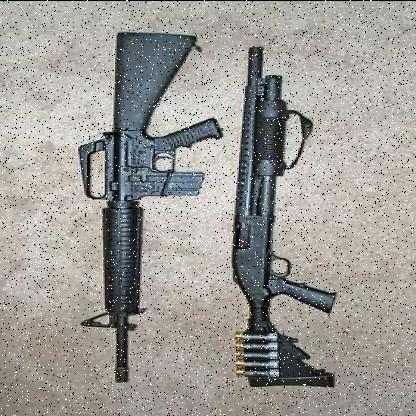rifle: (202, 41, 382, 374), (65, 19, 229, 378)
